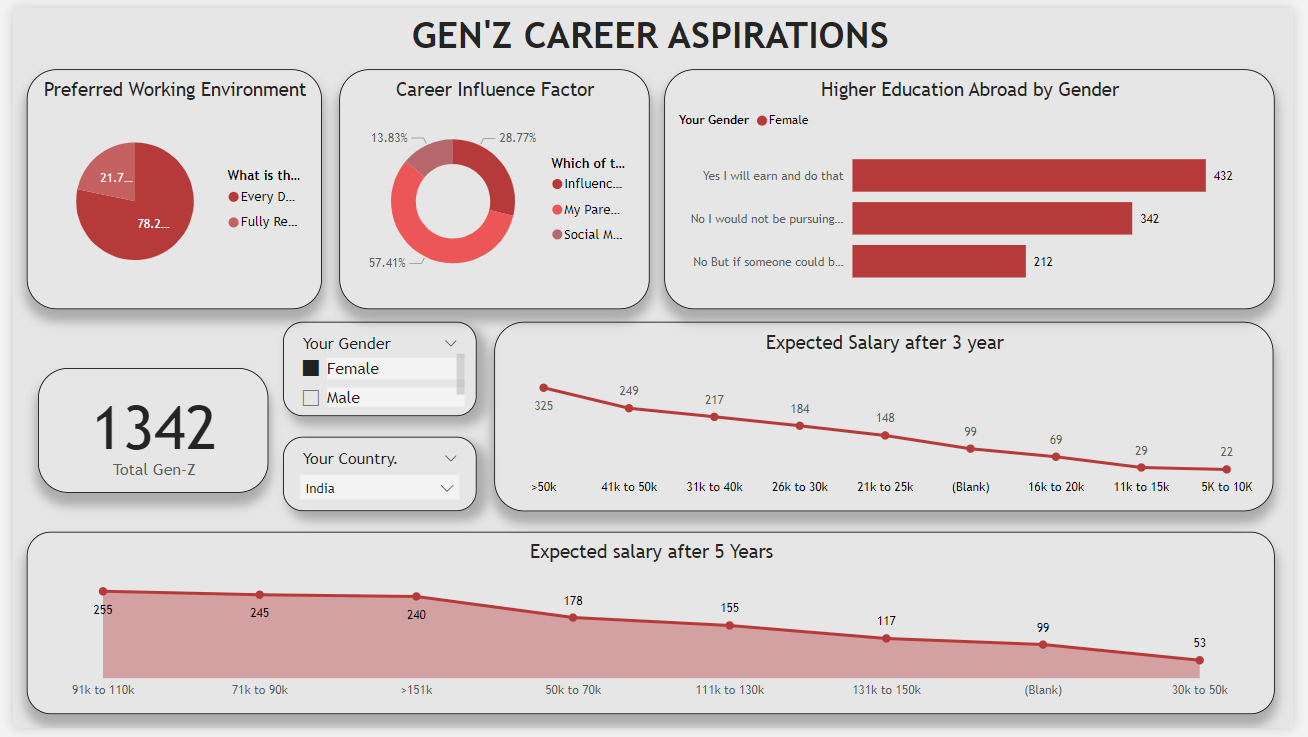

Layout of this report page (visuals, bound fields, positions):
{"tool":"powerbi","page":{"name":"Career Aspiration Gen'z ","canvas":[1280,720],"ordinal":0},"visuals":[{"type":"lineChart","title":"Expected Salary after 3 year","fields":{"Category":["Mission_Aspirations.Sheet1.For the First 3 years of your career, what is your minimum expected monthly salary in Hand?"],"Y":["CountNonNull(Gen-Z - Personalized Info Table - 1 - Sheet1.Response ID)"]},"box":[481.6,314.2,779.4,189.4],"z":0},{"type":"pieChart","title":"Preferred Working Environment","fields":{"Category":["Learning  Aspirations.What is the most preferred working environment for you."],"Y":["CountNonNull(Gen-Z - Personalized Info Table - 1 - Sheet1.Response ID)"]},"box":[13.3,61.7,295,240],"z":1000},{"type":"donutChart","title":"Career Influence Factor","fields":{"Y":["CountNonNull(Gen-Z - Personalized Info Table - 1 - Sheet1.Response ID)"],"Series":["Learning  Aspirations.Which of the below factors influence the most about your career aspirations ?"]},"box":[326.6,61.7,310.1,240.1],"z":2000},{"type":"textbox","box":[393.2,0,563.2,61.5],"z":3000},{"type":"areaChart","title":"Expected salary after 5 Years","fields":{"Category":["Mission_Aspirations.Sheet1.After 5 years of your career from now, what is your minimum expected monthly salary in Hand?"],"Y":["CountNonNull(Gen-Z - Personalized Info Table - 1 - Sheet1.Response ID)"]},"box":[14,524,1248,182],"z":4000},{"type":"slicer","fields":{"Values":["Gen-Z - Personalized Info Table - 1 - Sheet1.Your Gender"]},"box":[270.3,314.2,193.5,94.7],"z":5000},{"type":"card","title":"Make-Female Ratio","fields":{"Values":["CountNonNull(Gen-Z - Personalized Info Table - 1 - Sheet1.Response ID)"]},"box":[25,360,230,125],"z":6000},{"type":"slicer","fields":{"Values":["Gen-Z - Personalized Info Table - 1 - Sheet1.Your Current Country."]},"box":[270.3,428.1,193.5,74.1],"z":7000},{"type":"barChart","title":"Higher Education Abroad by Gender","fields":{"Category":["Learning  Aspirations.Would you definitely pursue a Higher Education / Post Graduation outside of India ? If only you ha"],"Y":["CountNonNull(Gen-Z - Personalized Info Table - 1 - Sheet1.Response ID)"],"Series":["Gen-Z - Personalized Info Table - 1 - Sheet1.Your Gender"]},"box":[651.7,61.7,610,240],"z":8000}]}

Visuals, with their boxes in screenshot pixels (x1, y1, x2, y2), scaled from the page's 1280x720 canvas onto the 1308x737 screenshot:
"Expected Salary after 3 year" lineChart: (x1=492, y1=322, x2=1289, y2=515)
"Preferred Working Environment" pieChart: (x1=14, y1=63, x2=315, y2=309)
"Career Influence Factor" donutChart: (x1=334, y1=63, x2=651, y2=309)
textbox: (x1=402, y1=0, x2=977, y2=63)
"Expected salary after 5 Years" areaChart: (x1=14, y1=536, x2=1290, y2=723)
slicer - Gen-Z - Personalized Info Table - 1 - Sheet1.Your Gender: (x1=276, y1=322, x2=474, y2=419)
"Make-Female Ratio" card: (x1=26, y1=368, x2=261, y2=496)
slicer - Gen-Z - Personalized Info Table - 1 - Sheet1.Your Current Country.: (x1=276, y1=438, x2=474, y2=514)
"Higher Education Abroad by Gender" barChart: (x1=666, y1=63, x2=1289, y2=309)
